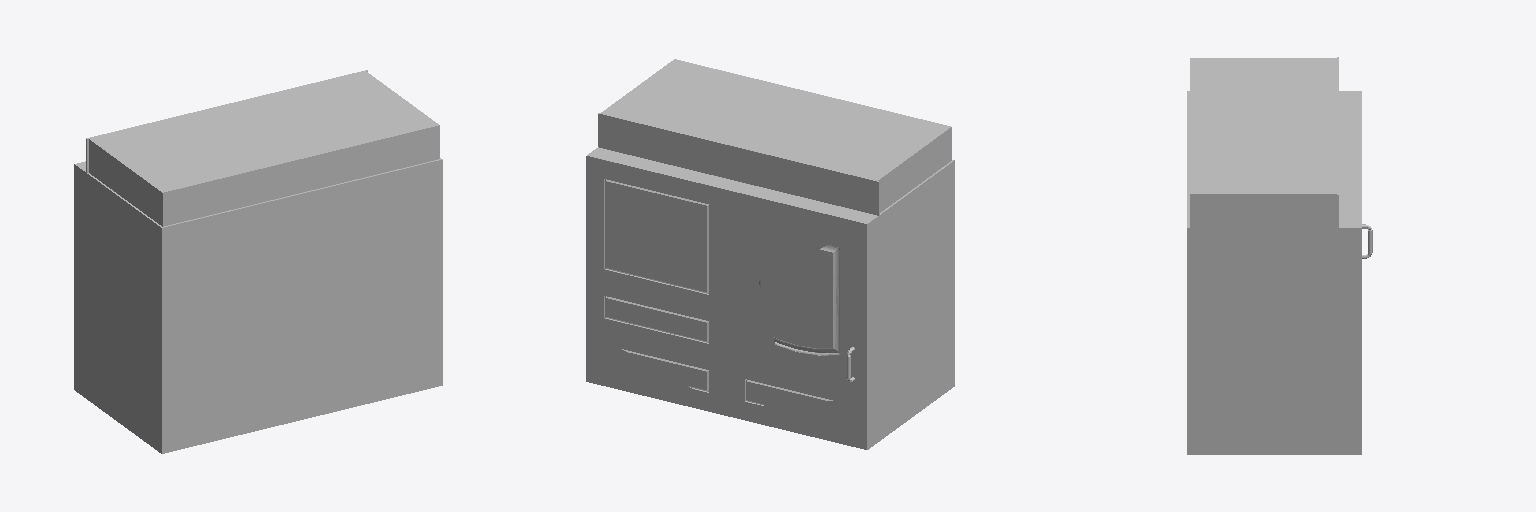
File: yyf_123_a.obj
The picture shows the model from 3 angles: view 1: azimuth 30°, elevation 25°; view 2: azimuth 150°, elevation 25°; view 3: azimuth 270°, elevation 25°; orthographic projection.
Visible parts, largest first — view 1: Mesh001; view 2: Mesh001; view 3: Mesh001.
Boxes of the visible parts, x1=… form: Mesh001: x1=74, y1=70, x2=442, y2=453; Mesh001: x1=586, y1=59, x2=954, y2=449; Mesh001: x1=1187, y1=57, x2=1372, y2=454.
Bounding box in the file's own units: 3.85 × 3.41 × 2.2.